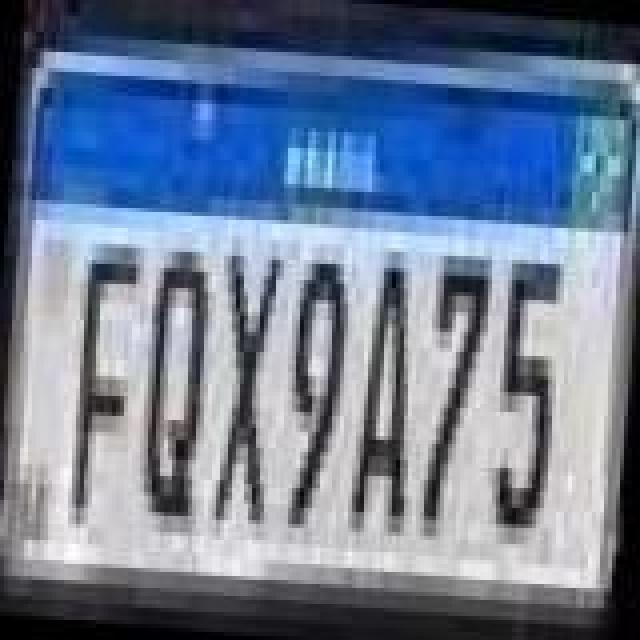5: (486, 252, 570, 548)
7: (414, 250, 498, 542)
9: (274, 250, 358, 534)
A: (342, 254, 426, 546)
F: (64, 248, 144, 536)
Q: (134, 246, 218, 522)
X: (204, 246, 292, 538)
